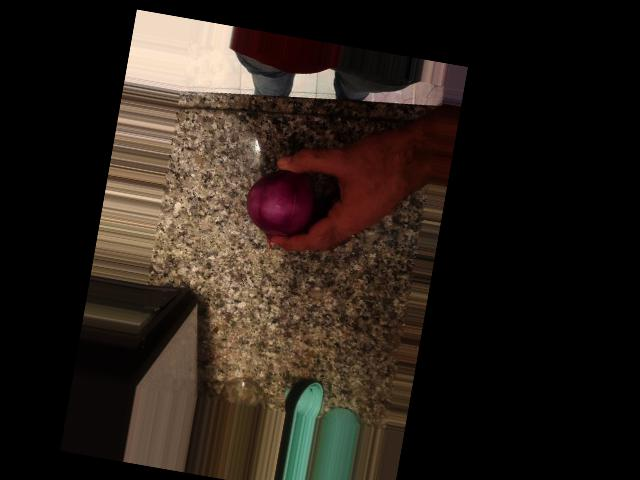onion: (236, 149, 321, 251)
